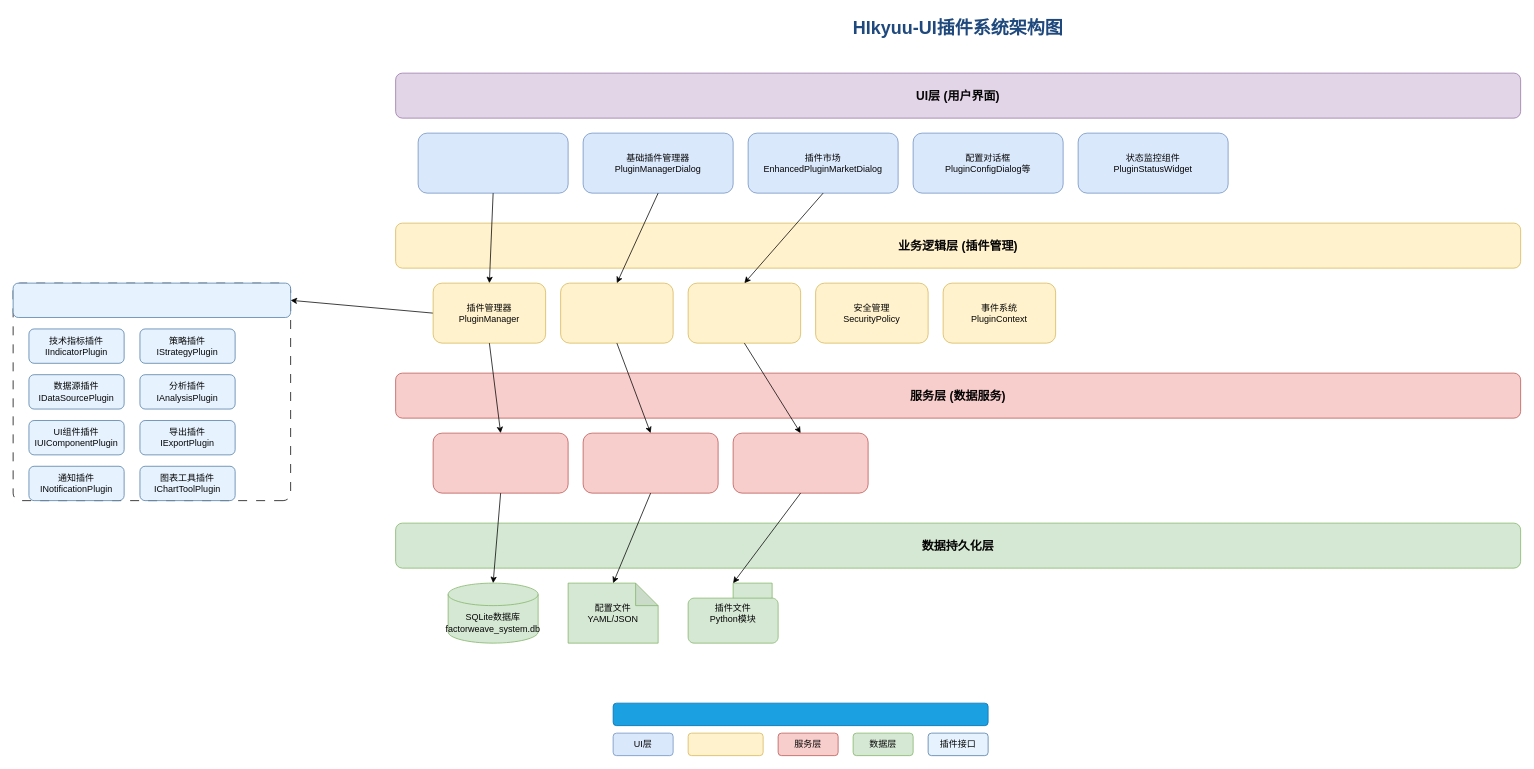
The diagram is 1534 pixels wide and 769 high, and some of its shapes have lost their labels. Here are the shapes that lost their labels. From the top down, the box of each, then its label:
(417, 132, 568, 193): 增强型插件管理器 EnhancedPluginManagerDialog
(12, 282, 291, 317): 插件接口层
(560, 282, 673, 343): 配置管理器 PluginConfigManager
(687, 282, 801, 343): 插件市场 PluginMarket
(432, 432, 568, 493): 插件数据库服务 PluginDatabaseService
(582, 432, 718, 493): 性能监控服务 PerformanceMonitor
(732, 432, 868, 493): 缓存服务 CacheManager
(612, 702, 988, 726): 图例
(687, 732, 763, 756): 业务逻辑层
